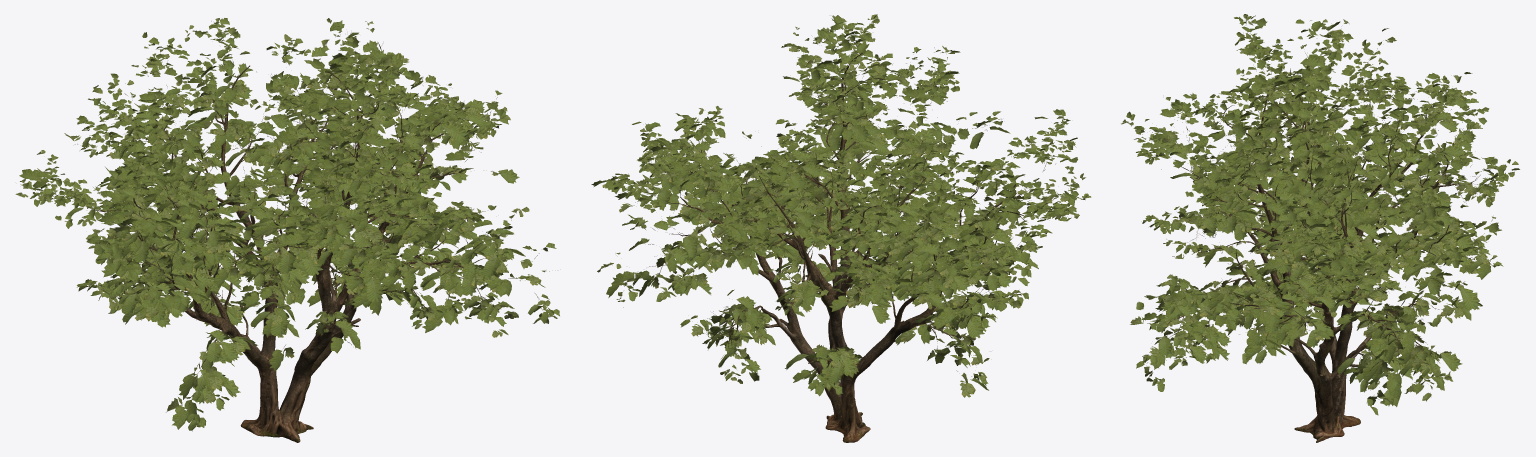
The model's file is jac-perto.glb.
3 renders of one model, left to right at view 1: azimuth 30°, elevation 25°; view 2: azimuth 150°, elevation 25°; view 3: azimuth 270°, elevation 25°, orthographic. The views are drawn at different scales.
Visible parts, largest first — view 1: jacaranda_tree_leaves, jacaranda_tree_trunk, jacaranda_tree_branches; view 2: jacaranda_tree_leaves, jacaranda_tree_trunk, jacaranda_tree_branches; view 3: jacaranda_tree_leaves, jacaranda_tree_trunk, jacaranda_tree_branches.
Boxes of the visible parts, <box> form: jacaranda_tree_leaves: <box>15,18,559,431</box>; jacaranda_tree_trunk: <box>206,210,390,442</box>; jacaranda_tree_branches: <box>52,21,549,421</box>; jacaranda_tree_leaves: <box>591,14,1091,397</box>; jacaranda_tree_trunk: <box>755,202,911,442</box>; jacaranda_tree_branches: <box>623,16,1062,376</box>; jacaranda_tree_leaves: <box>1121,14,1519,415</box>; jacaranda_tree_trunk: <box>1263,239,1393,442</box>; jacaranda_tree_branches: <box>1129,23,1492,396</box>.
Size of the model in its own units: 24.18 by 19.42 by 18.44.
3 materials, 3 textured.
